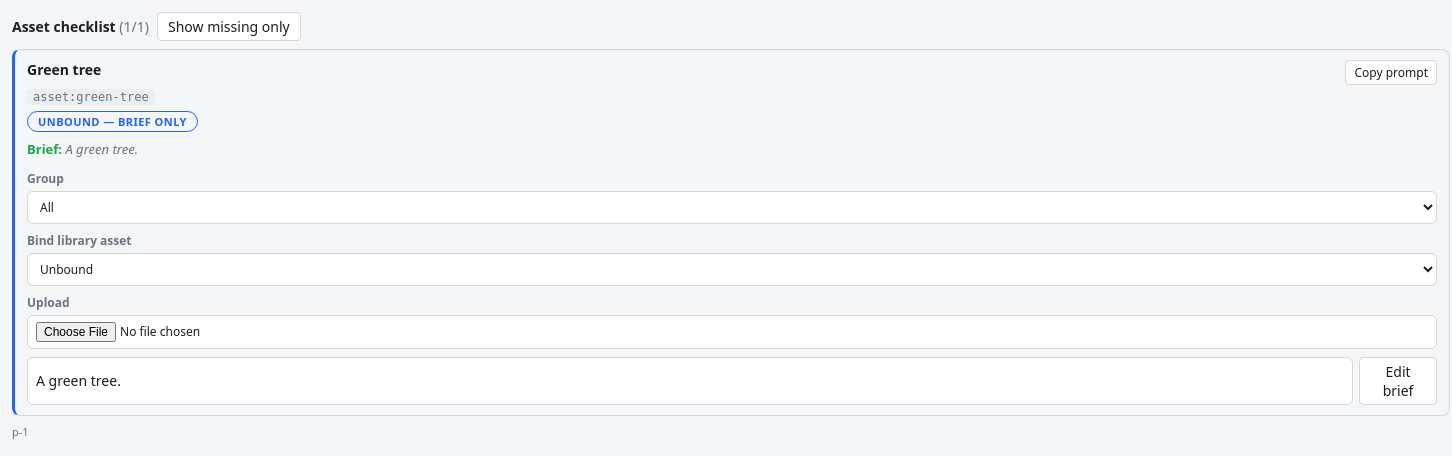
AiScenarioChecklist title and copy prompt › reports copy failure without throwing
Step 1. Click the button with test id "ai-scenario-checklist-copy-green-tree" → [1391, 72], box left=1346, top=60, right=1437, bottom=85
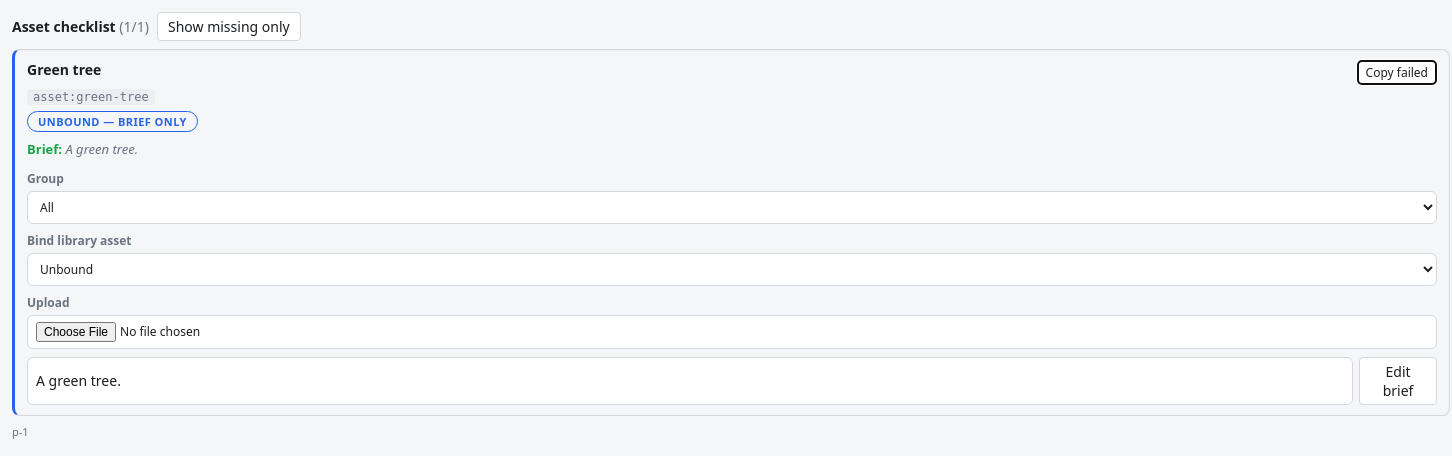
Result: the button "Copy failed" is shown at left=1357, top=60, right=1437, bottom=85
